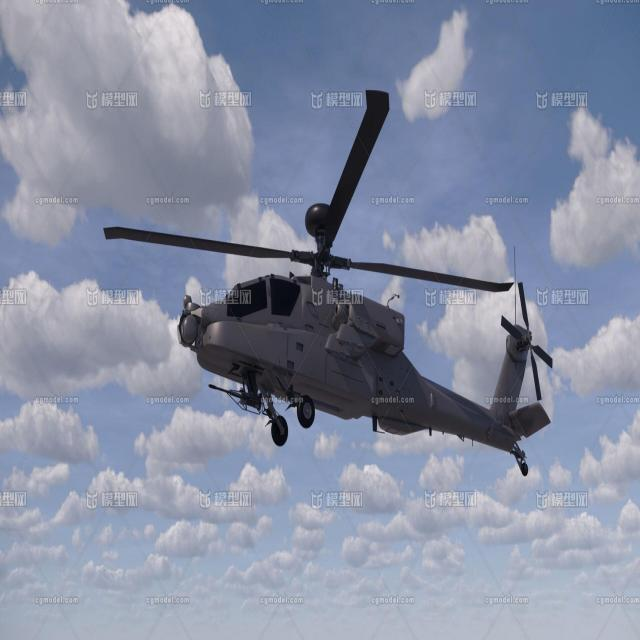MIL_HELO: (96, 73, 566, 487)
